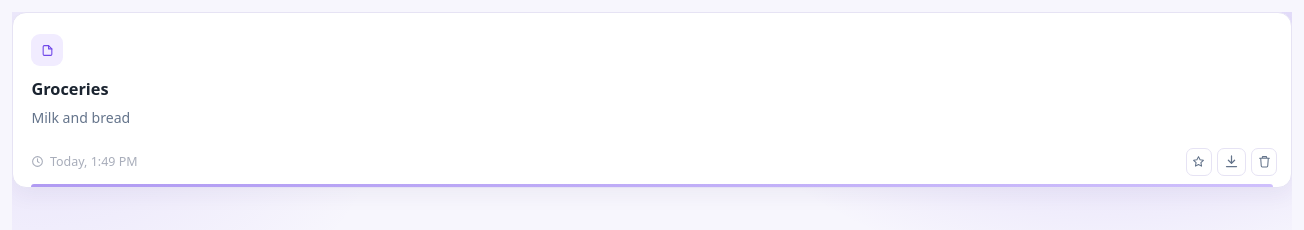
Scenario: NoteCard › deleting › backs out on Keep
Step 1. Click the button named "Delete Groceries" → [1264, 162], box top-left (1251, 148), bottom-right (1277, 176)
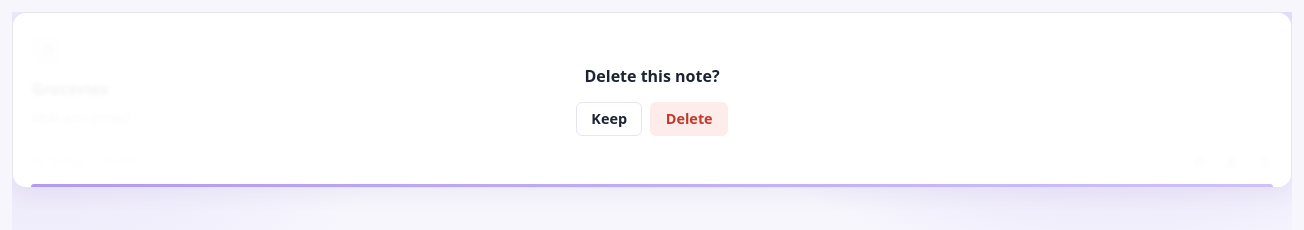
Step 2. Click the button "Keep" → [609, 119], box top-left (576, 102), bottom-right (642, 136)
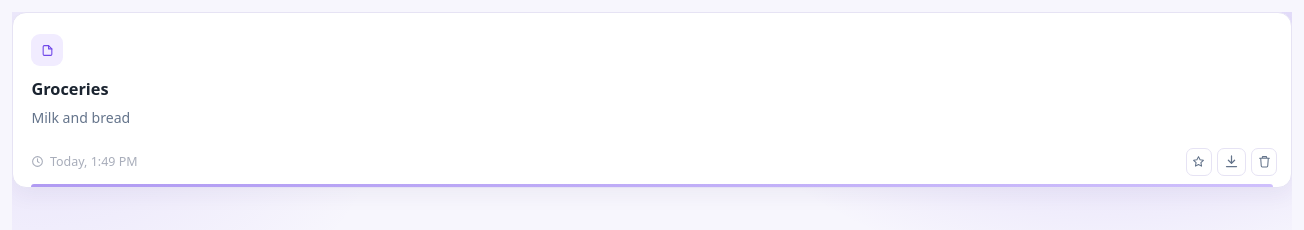
Check: the text "Delete this note?" is gone
